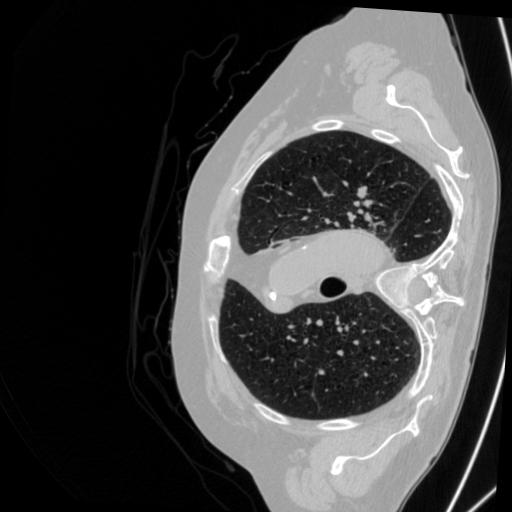nodule: (354, 186, 372, 204)
